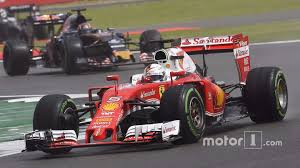FormulaOneCar: (24, 37, 290, 155), (3, 7, 172, 74)
